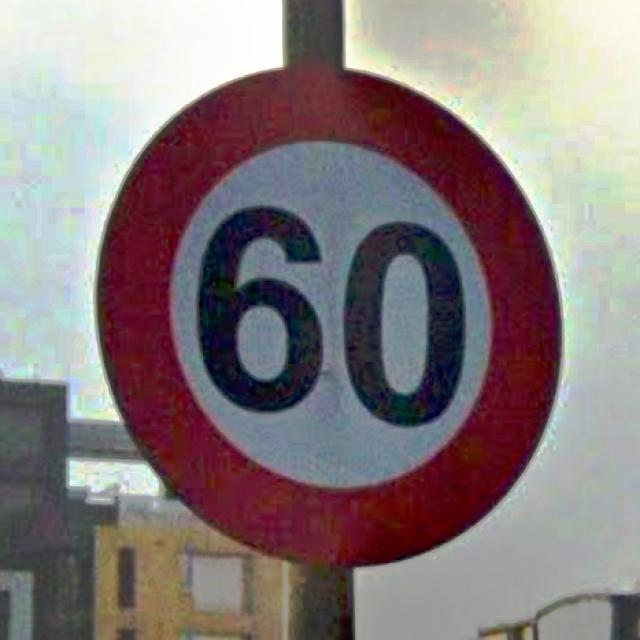max60: (91, 57, 564, 570)
